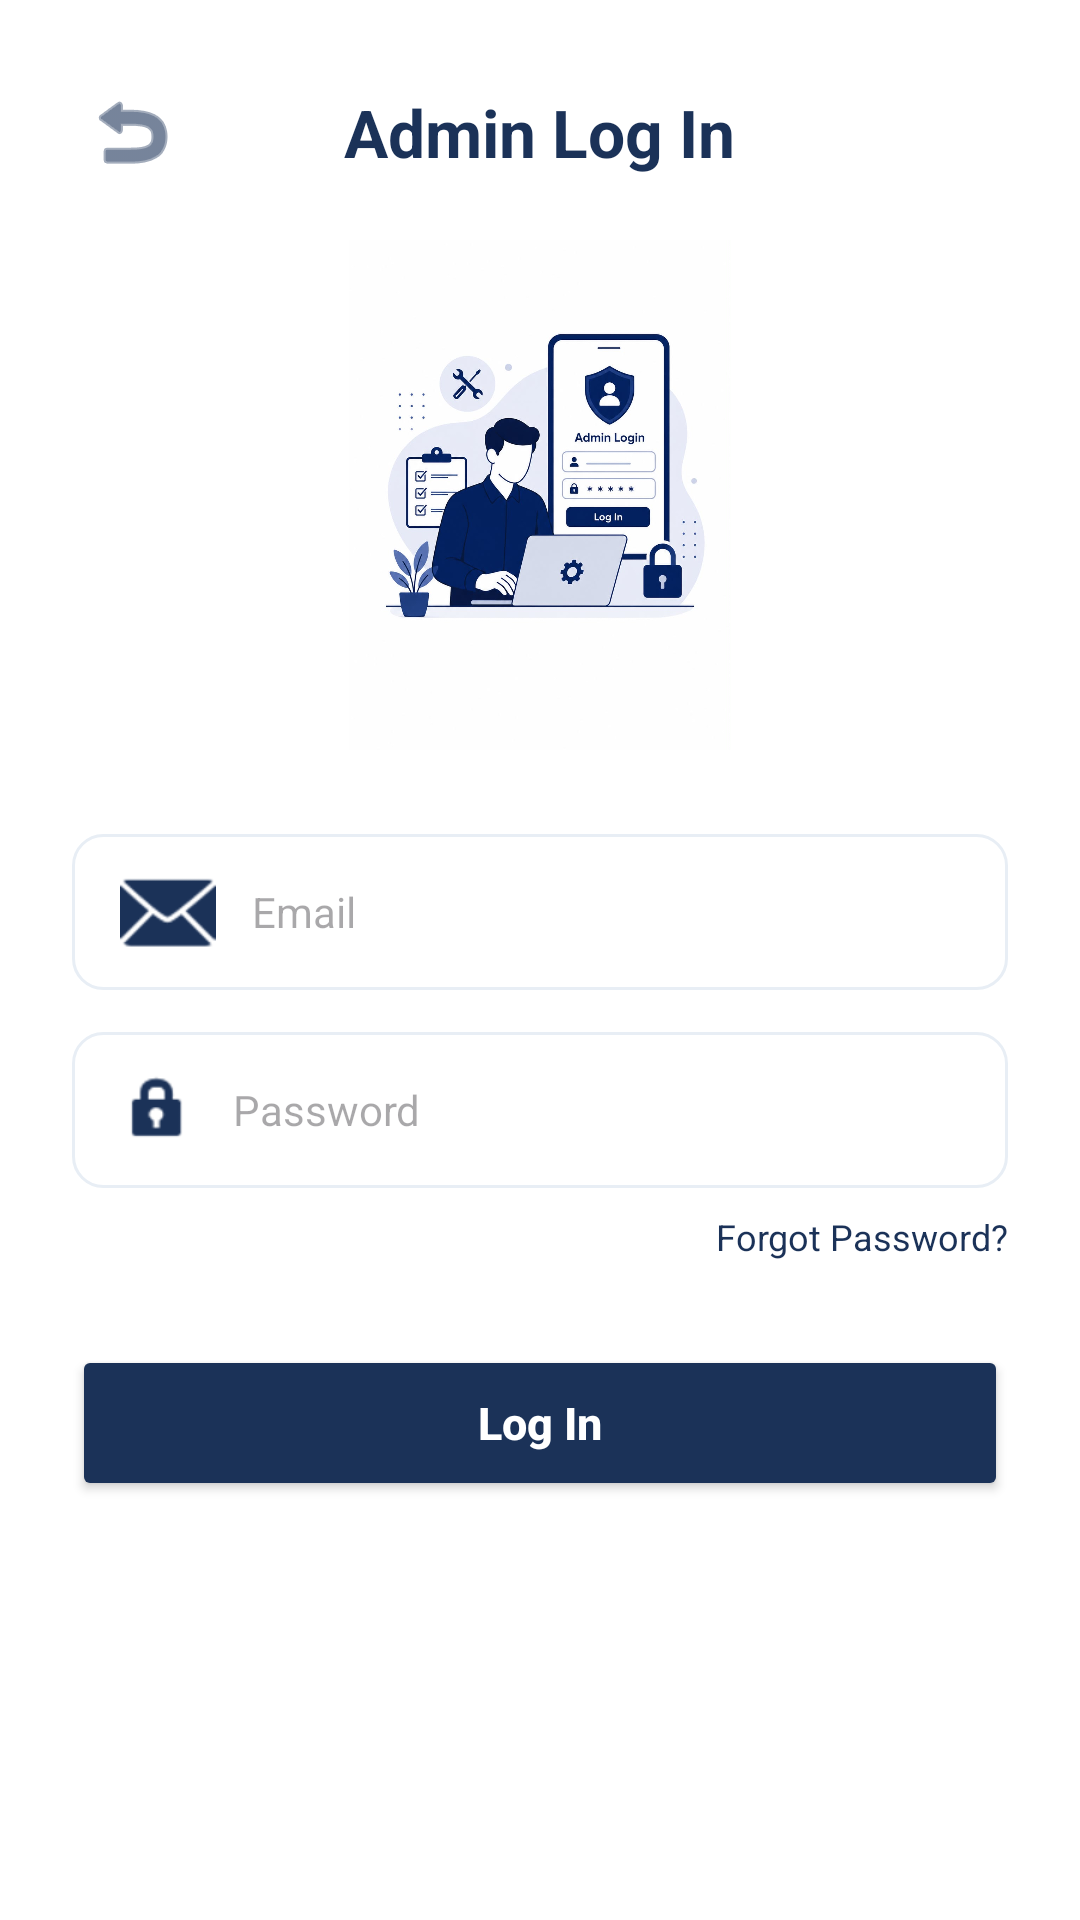

Where icons sit on this 1080×1920 app screen, as (x1, y1, x2, y2):
Back: (99, 101, 168, 164)
